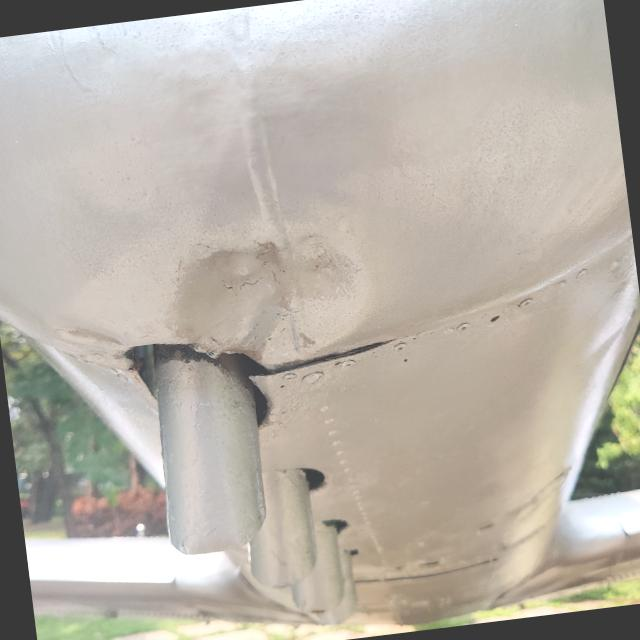dent: (140, 194, 400, 393), (44, 298, 139, 376)
